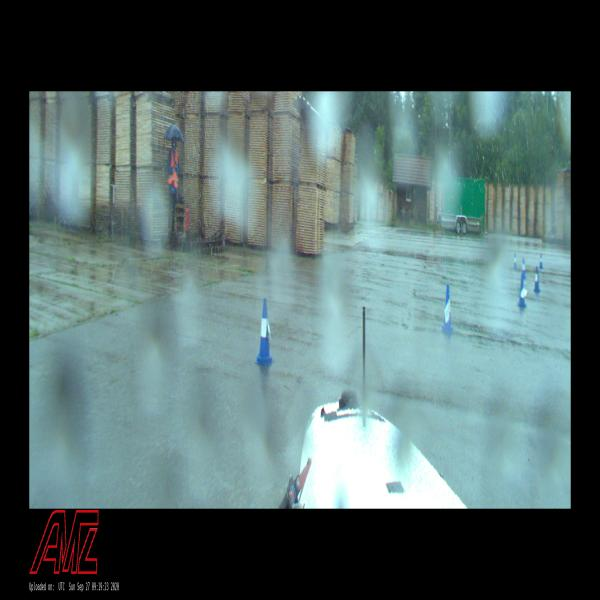blue_cone: (255, 299, 274, 366), (442, 284, 454, 333), (518, 280, 526, 307), (534, 268, 540, 292), (520, 258, 526, 278), (513, 252, 517, 269), (540, 253, 542, 267)
